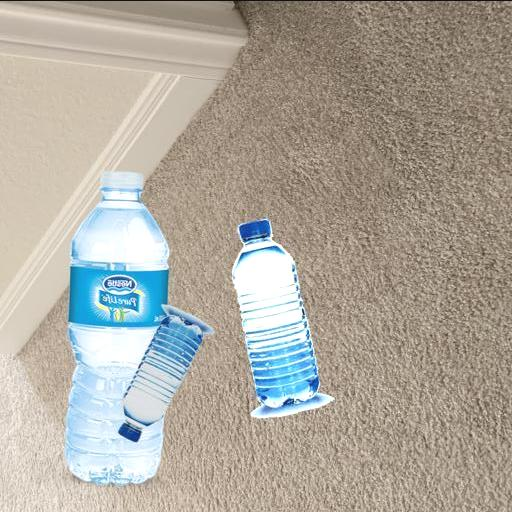bottle: (68, 164, 168, 500), (222, 202, 339, 425), (118, 298, 214, 442)
